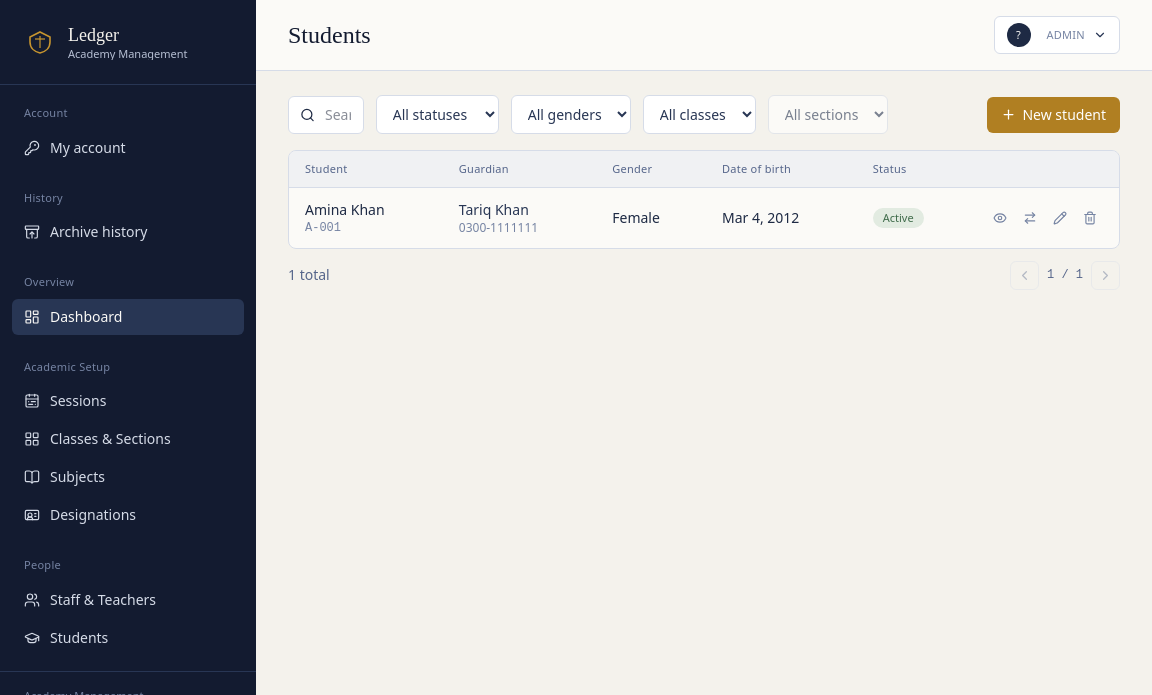
New student form › blocks submission when the enrollment section is incomplete
Check: the text "Amina Khan" is shown, box left=305, top=200, right=385, bottom=219
Click the button "New student": coordinates (1054, 114) left=988, top=96, right=1120, bottom=132
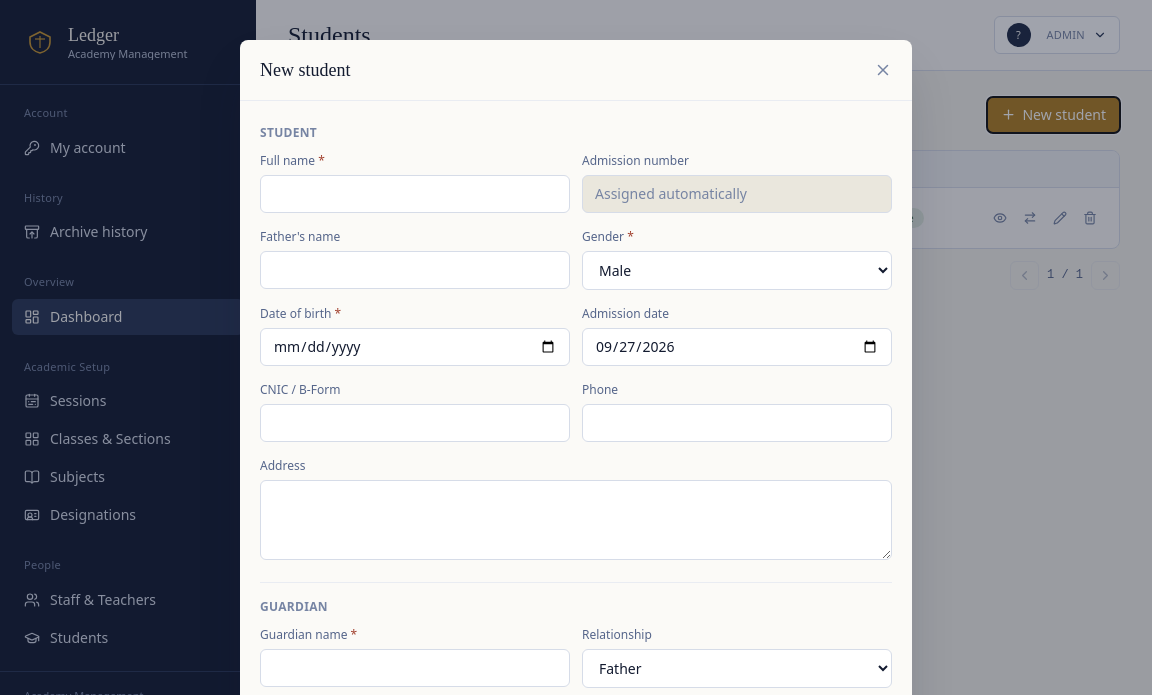
Check: the field labelled "Full name *" is shown
In the field labelled "Full name *": coordinates (415, 194) left=260, top=175, right=570, bottom=213, type "New Student"
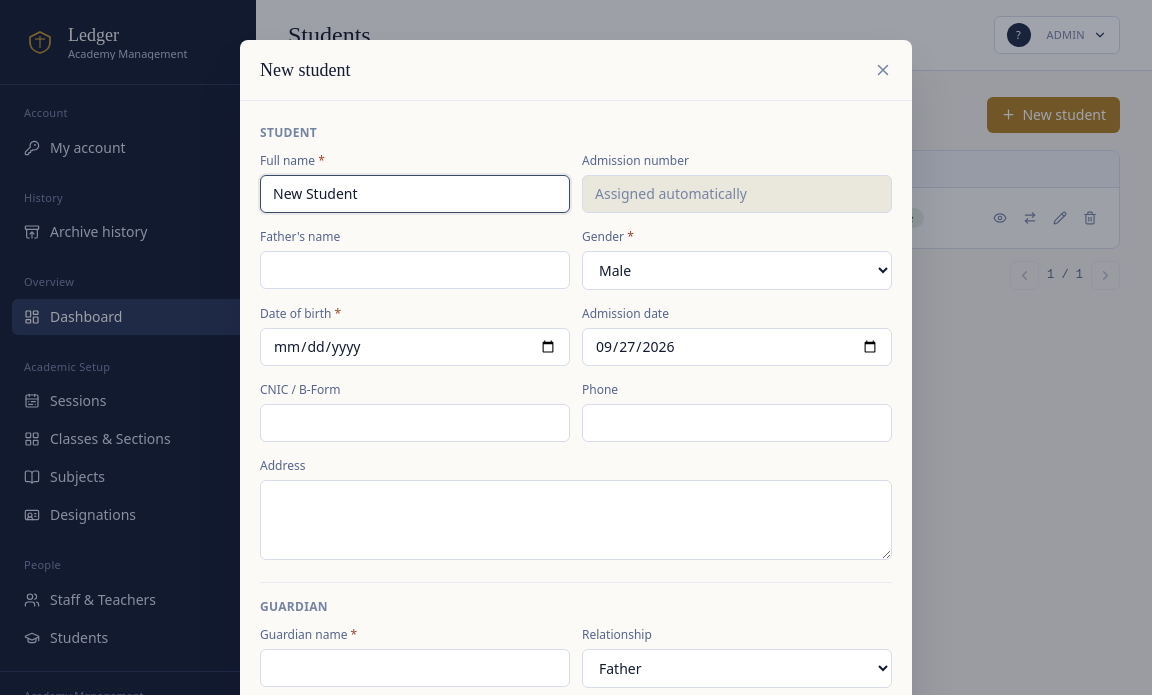
In the date field labelled "Date of birth *": coordinates (415, 347) left=260, top=328, right=570, bottom=366, type "2013-01-01"
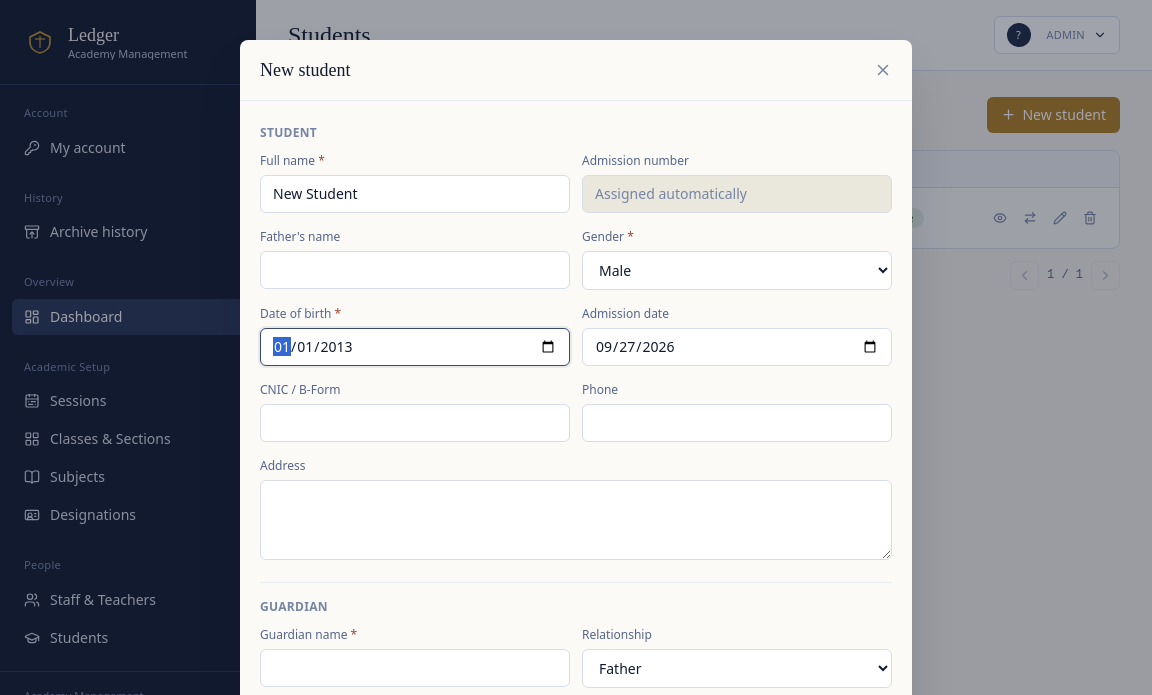
In the field labelled "Guardian name *": coordinates (415, 668) left=260, top=649, right=570, bottom=687, type "Some Guardian"
(page scrolled)
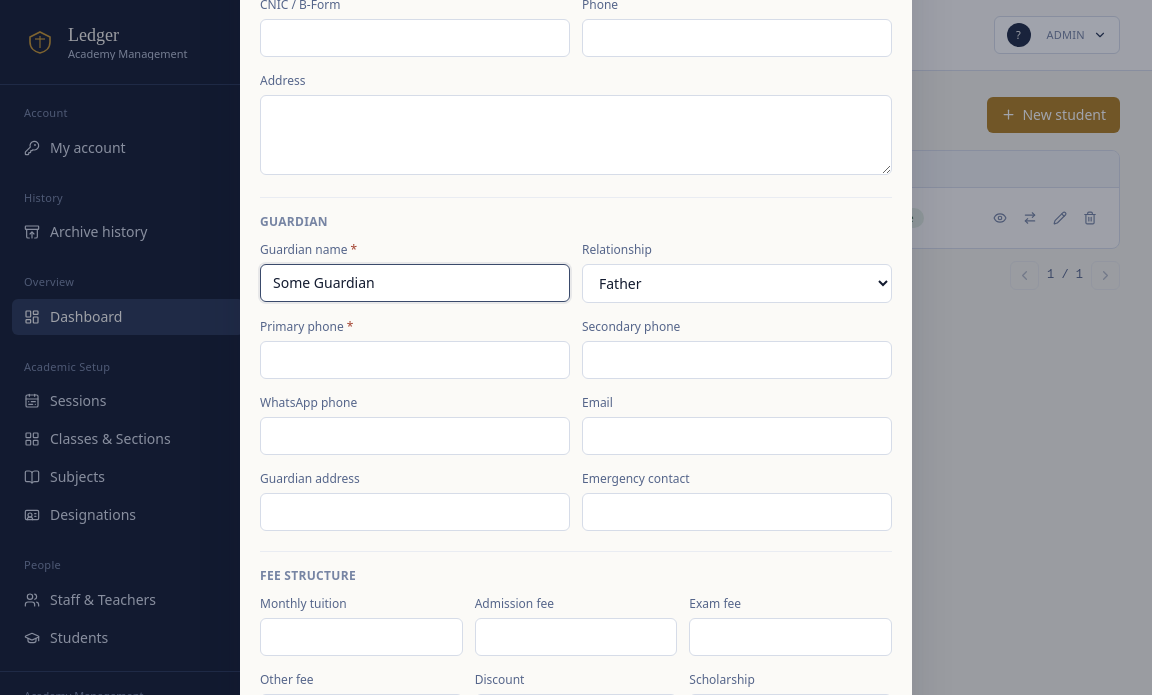
In the field labelled "Primary phone *": coordinates (415, 360) left=260, top=341, right=570, bottom=379, type "0300-0000000"
(page scrolled)
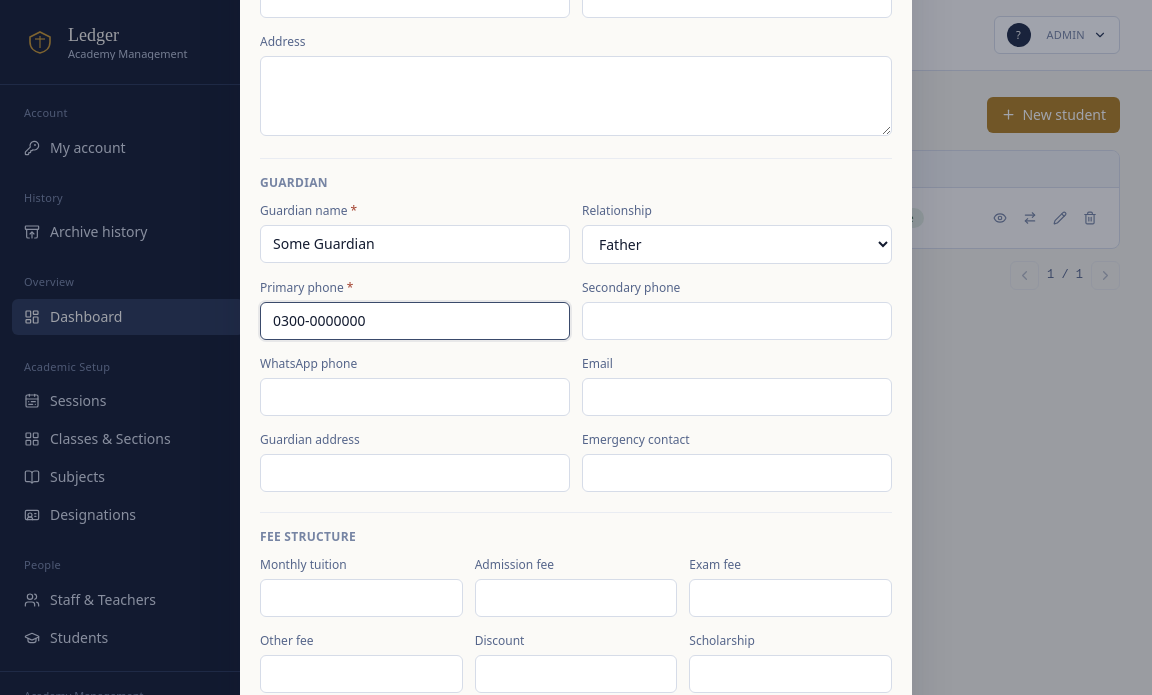
Submit the form named "create & enroll"
(page scrolled)
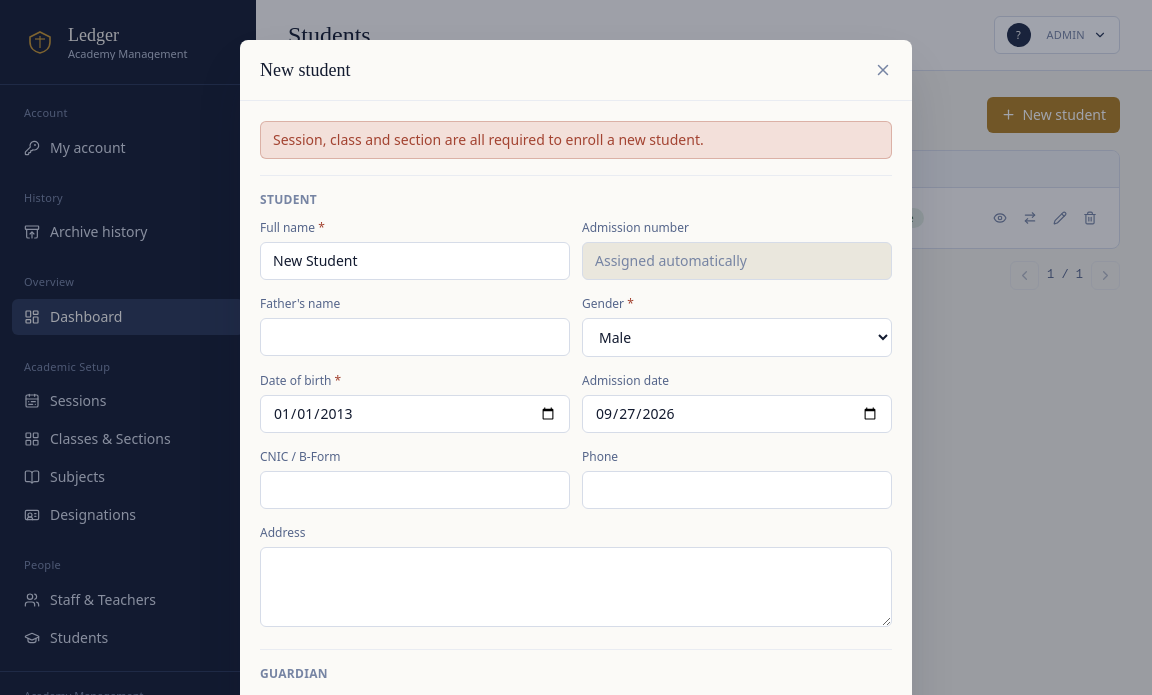
Check: the text "Session, class and section are all required to enroll a new student." is shown, box left=260, top=121, right=892, bottom=159
